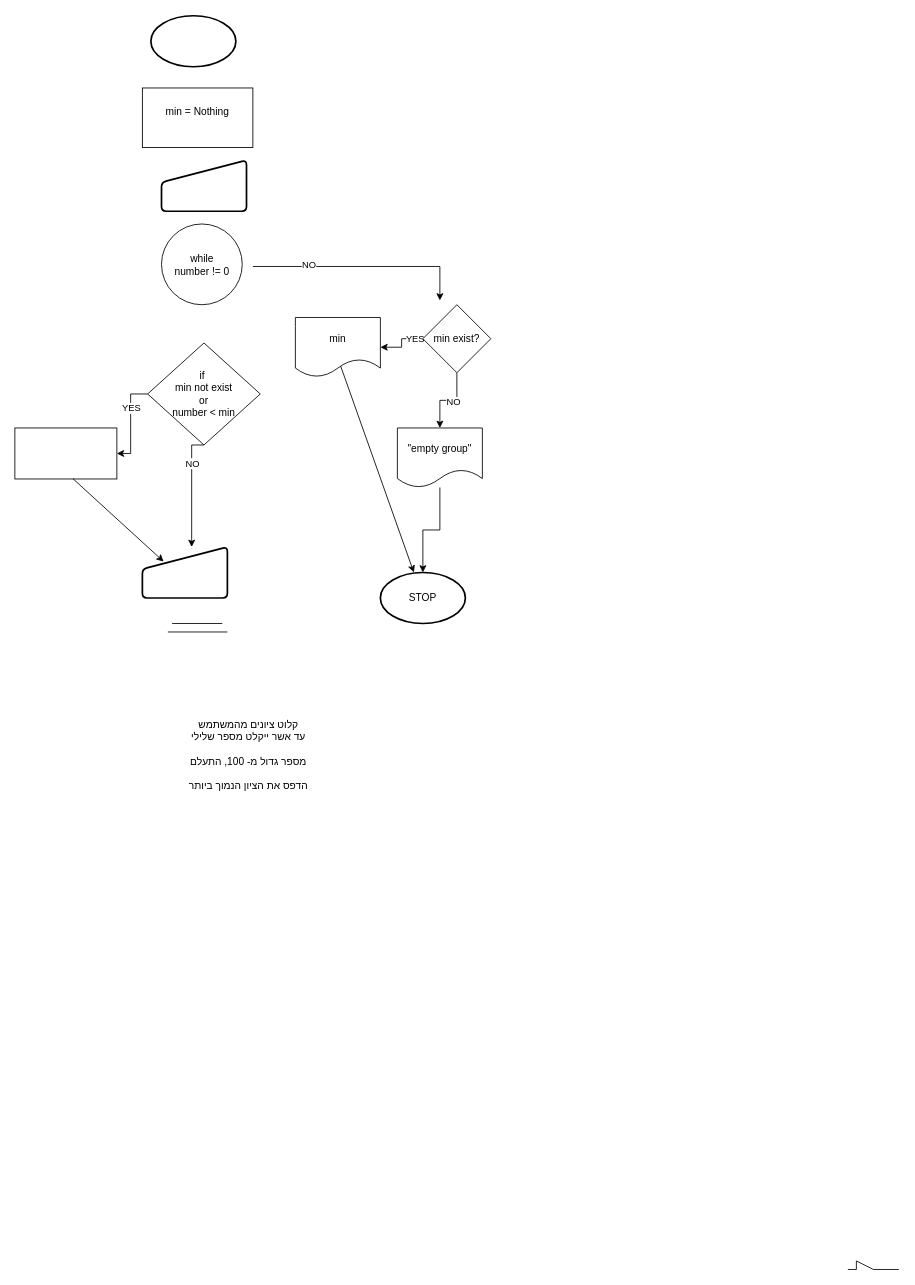
The diagram is 915 pixels wide and 1285 high, and some of its shapes have lost their labels. Each missing label, with the centre of its shape:
min = number: pixel 65 453
num: pixel 203 185
number: pixel 184 572
START: pixel 193 40
